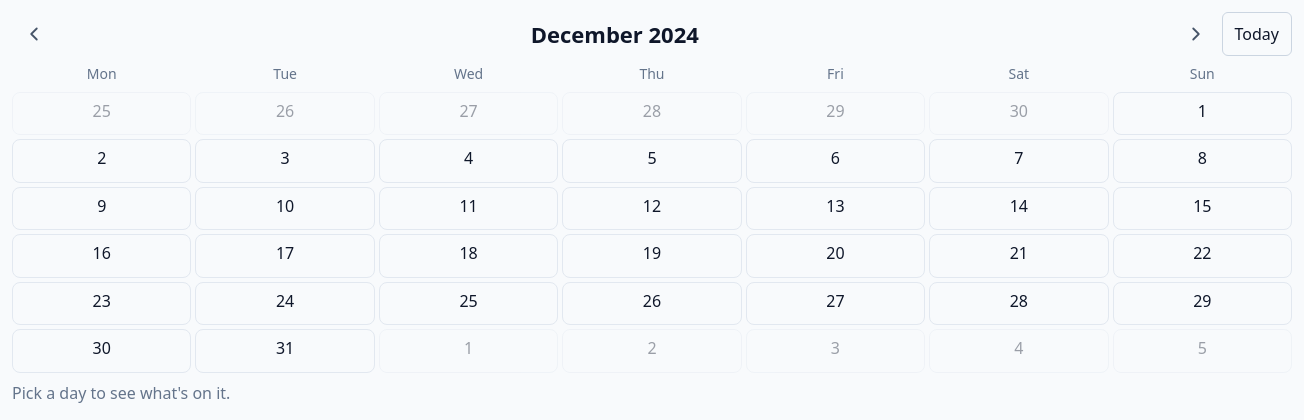
Test: Calendar — navigation › wraps December → January of the next year
The image size is (1304, 420).
Expected: the heading "December 2024" is shown, [531,19,699,49]
What coordinates should you click on to do the following:
click the button named "Next month"
I would click on:
 (1196, 34)
Its box is [1174,12,1218,56].
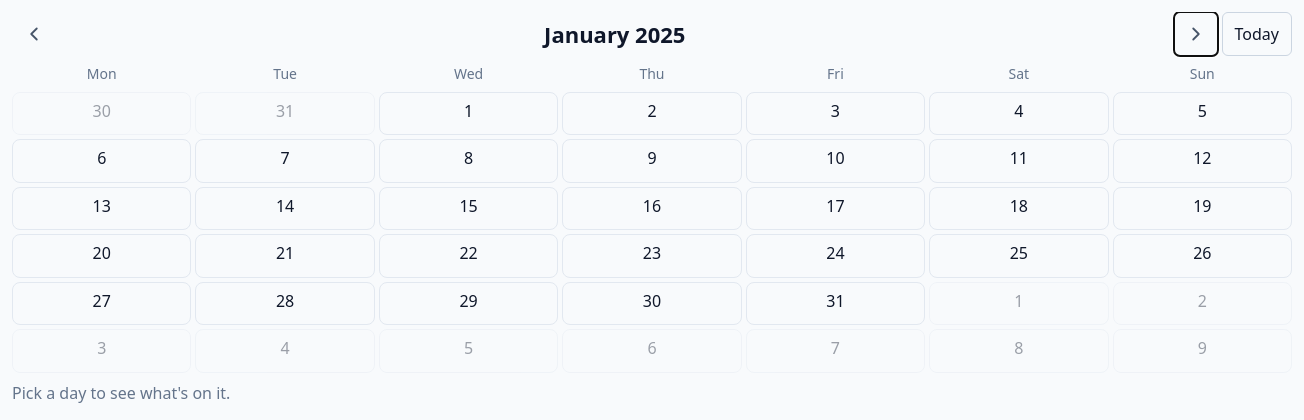
Now the heading "January 2025" is shown, box [544,19,685,49]
